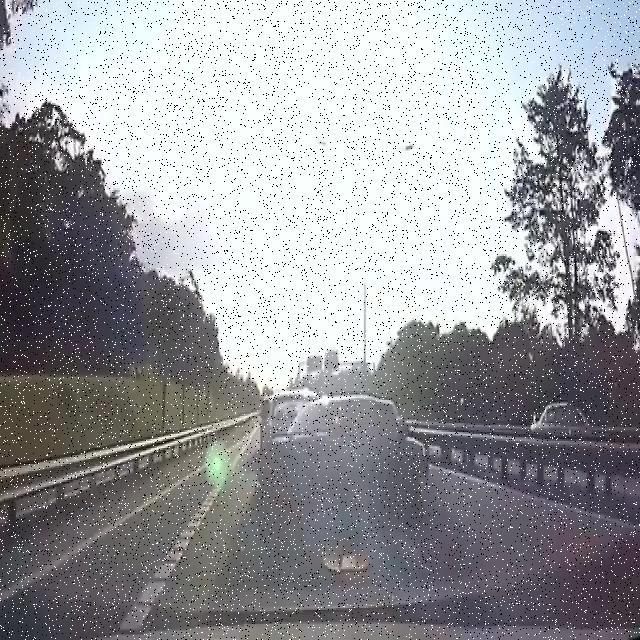low-cars-accident: (263, 391, 431, 580)
